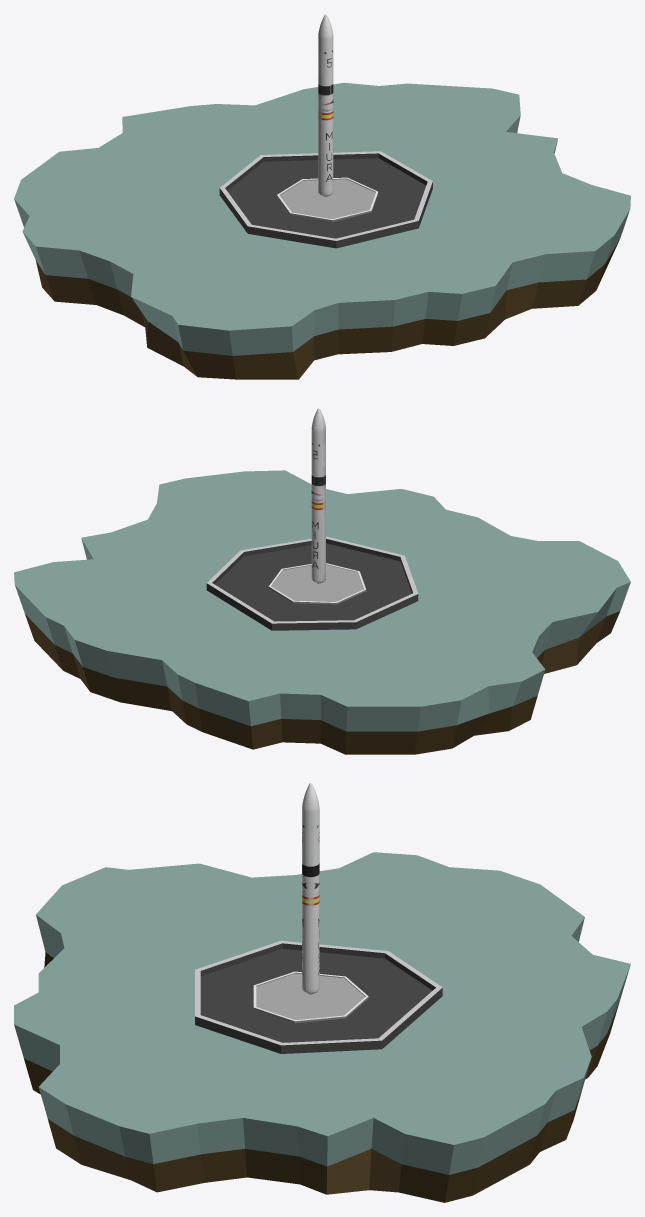
The model's file is Miura5.gltf.
The picture shows the model from 3 angles, top to bottom: view 1: azimuth 30°, elevation 25°; view 2: azimuth 150°, elevation 25°; view 3: azimuth 270°, elevation 25°; orthographic projection. The views are drawn at different scales.
Parts seen in each view (by area): view 1: Cylinder.003, Cylinder.001; view 2: Cylinder.003, Cylinder.001; view 3: Cylinder.003, Cylinder.001.
Boxes of the visible parts, x1,y1,x2,y2 form: Cylinder.003: (14,82,630,379); Cylinder.001: (318,14,333,196); Cylinder.003: (14,470,630,754); Cylinder.001: (311,408,325,583); Cylinder.003: (14,852,630,1202); Cylinder.001: (302,783,319,994).
Bounding box in the file's own units: 8.06 × 3.65 × 7.18.
9 materials, 1 textured.
